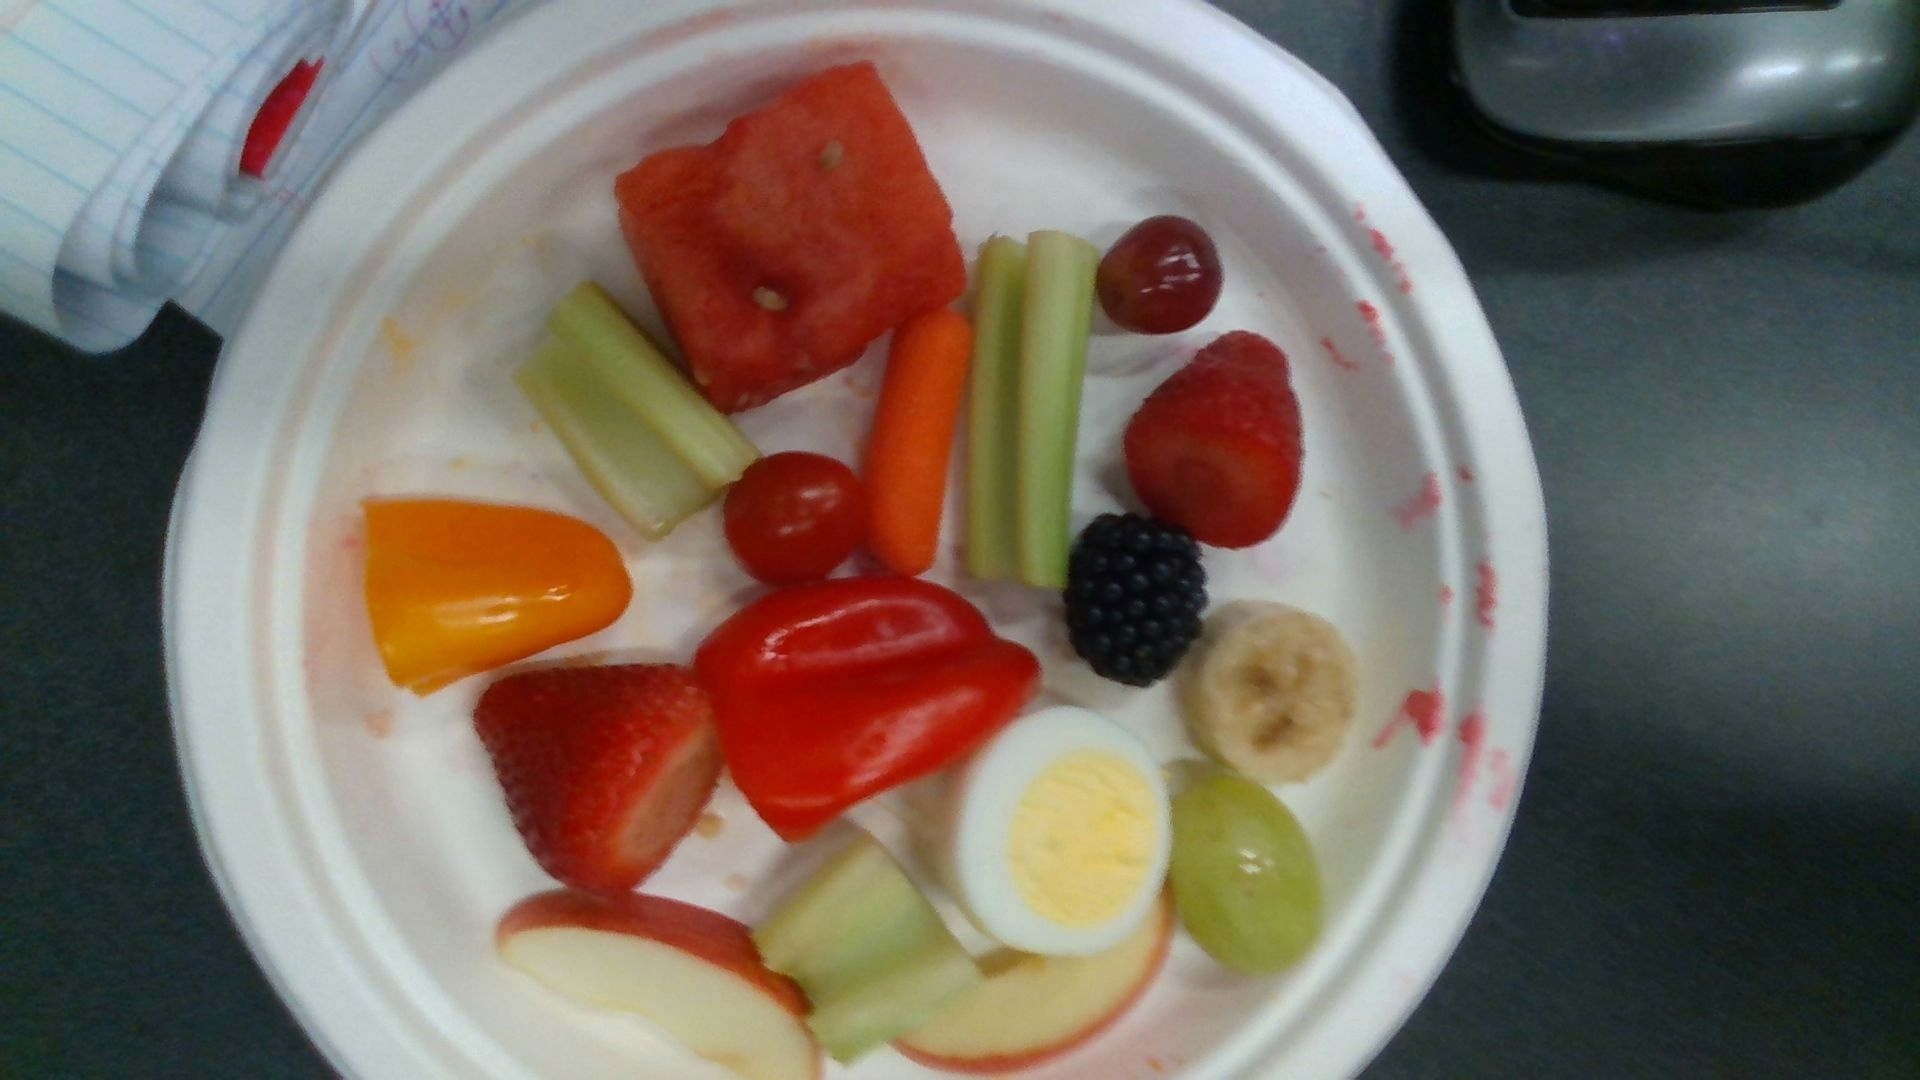apple: (497, 893, 822, 1080), (895, 895, 1167, 1069)
banana: (1184, 603, 1354, 778)
bell_pepper: (695, 580, 1034, 836), (365, 501, 630, 694)
blackberry: (1067, 516, 1205, 684)
carrot: (864, 311, 971, 575)
celery: (517, 285, 757, 533), (749, 848, 971, 1060), (971, 233, 1097, 588)
cherry_tomato: (727, 454, 862, 585)
egg: (935, 705, 1172, 955)
grape_green: (1172, 773, 1317, 968)
grape_purple: (1100, 216, 1222, 331)
melon: (615, 63, 967, 413)
strawberry: (477, 666, 719, 891), (1125, 334, 1304, 549)
